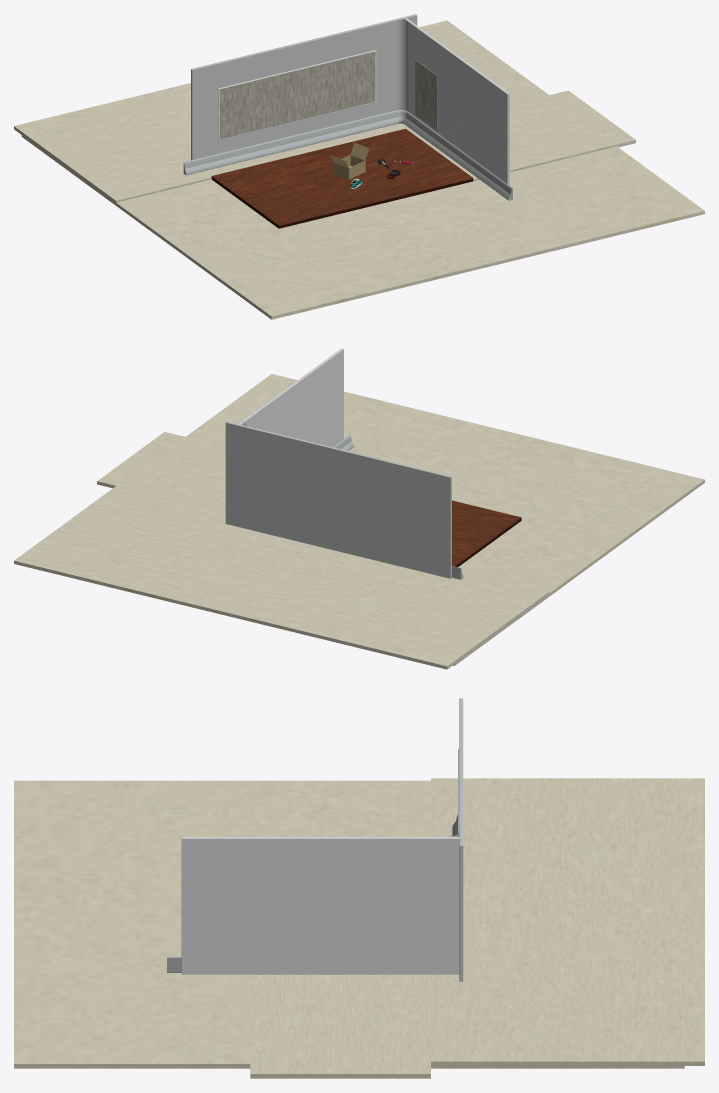
The model's file is codex.glb.
3 views of the same model, one above another, from view 1: azimuth 30°, elevation 25°; view 2: azimuth 150°, elevation 25°; view 3: azimuth 270°, elevation 25° (orthographic). The views are drawn at different scales.
Visible parts, largest first — view 1: Continuous pale surrounding floor, Raised pale ash floor behind platform, Back wall, Right wall, Back inset fibrous panel, Raised pale ash floor beside platform, Wide concave base molding back, Wide concave base molding side, Right inset panel, Rounded interior wall corner, Wood platform dark exposed thickness, Back inset panel white frame; view 2: Raised pale ash floor behind platform, Continuous pale surrounding floor, Back wall, Raised pale ash floor beside platform, Right wall; view 3: Raised pale ash floor behind platform, Continuous pale surrounding floor, Right wall, Raised pale ash floor beside platform, Back wall.
Part boxes in pixels (bbox=[...]): Continuous pale surrounding floor: bbox=[21, 134, 704, 319]; Raised pale ash floor behind platform: bbox=[14, 20, 548, 202]; Back wall: bbox=[191, 14, 417, 160]; Right wall: bbox=[404, 17, 509, 185]; Back inset fibrous panel: bbox=[220, 51, 375, 139]; Raised pale ash floor beside platform: bbox=[408, 90, 635, 181]; Wide concave base molding back: bbox=[183, 110, 398, 175]; Wide concave base molding side: bbox=[404, 112, 512, 200]; Right inset panel: bbox=[415, 59, 437, 130]; Rounded interior wall corner: bbox=[396, 19, 408, 111]; Wood platform dark exposed thickness: bbox=[211, 177, 473, 228]; Back inset panel white frame: bbox=[218, 50, 376, 140]; Raised pale ash floor behind platform: bbox=[14, 486, 549, 669]; Continuous pale surrounding floor: bbox=[186, 374, 704, 665]; Back wall: bbox=[225, 421, 451, 578]; Raised pale ash floor beside platform: bbox=[97, 432, 225, 512]; Right wall: bbox=[237, 348, 343, 447]; Raised pale ash floor behind platform: bbox=[431, 778, 704, 1065]; Continuous pale surrounding floor: bbox=[14, 780, 684, 1068]; Right wall: bbox=[181, 837, 462, 974]; Raised pale ash floor beside platform: bbox=[250, 974, 430, 1078]; Back wall: bbox=[459, 698, 463, 981].
Bounding box in the file's own units: 26.1 × 5.9 × 25.76.
134 materials, 103 textured.
